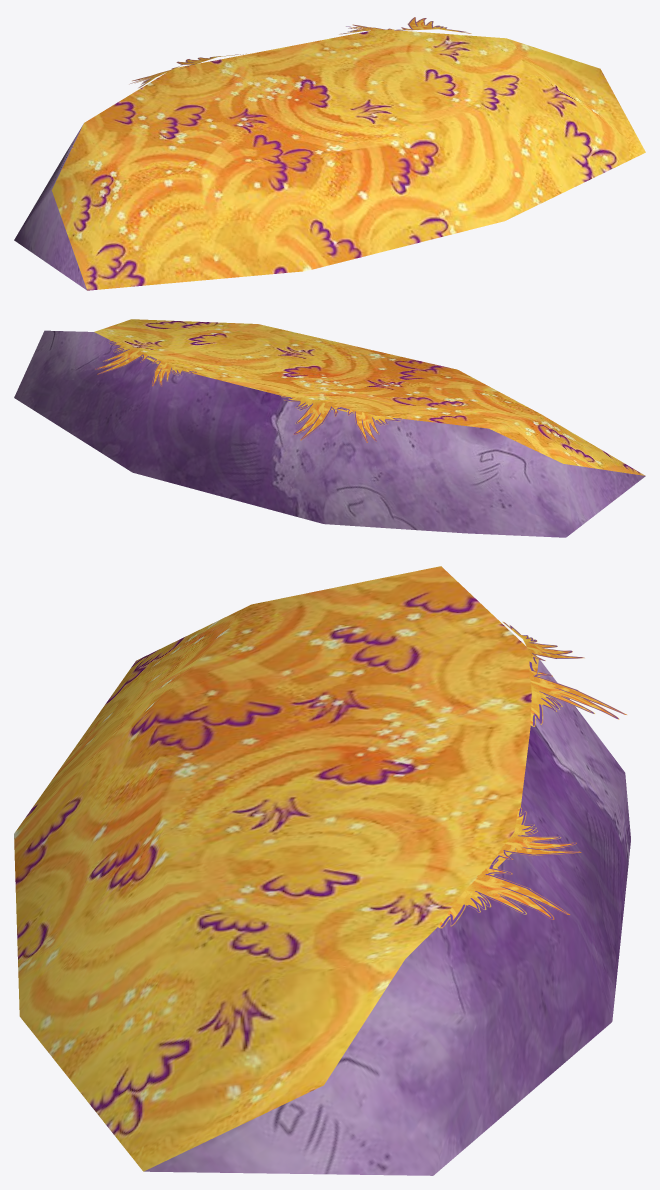
File: entity42180.gltf
The picture shows the model from 3 angles, top to bottom: view 1: azimuth 30°, elevation 25°; view 2: azimuth 150°, elevation 25°; view 3: azimuth 270°, elevation 25°; orthographic projection. The views are drawn at different scales.
Visible parts, largest first — view 1: node_mesh_small_mount_01; view 2: node_mesh_small_mount_01; view 3: node_mesh_small_mount_01.
Boxes of the visible parts, x1,y1,x2,y2 form: node_mesh_small_mount_01: (14,17,645,290); node_mesh_small_mount_01: (14,319,645,537); node_mesh_small_mount_01: (14,566,630,1175).
Bounding box in the file's own units: 875 × 160 × 453.
3 materials, 3 textured.
